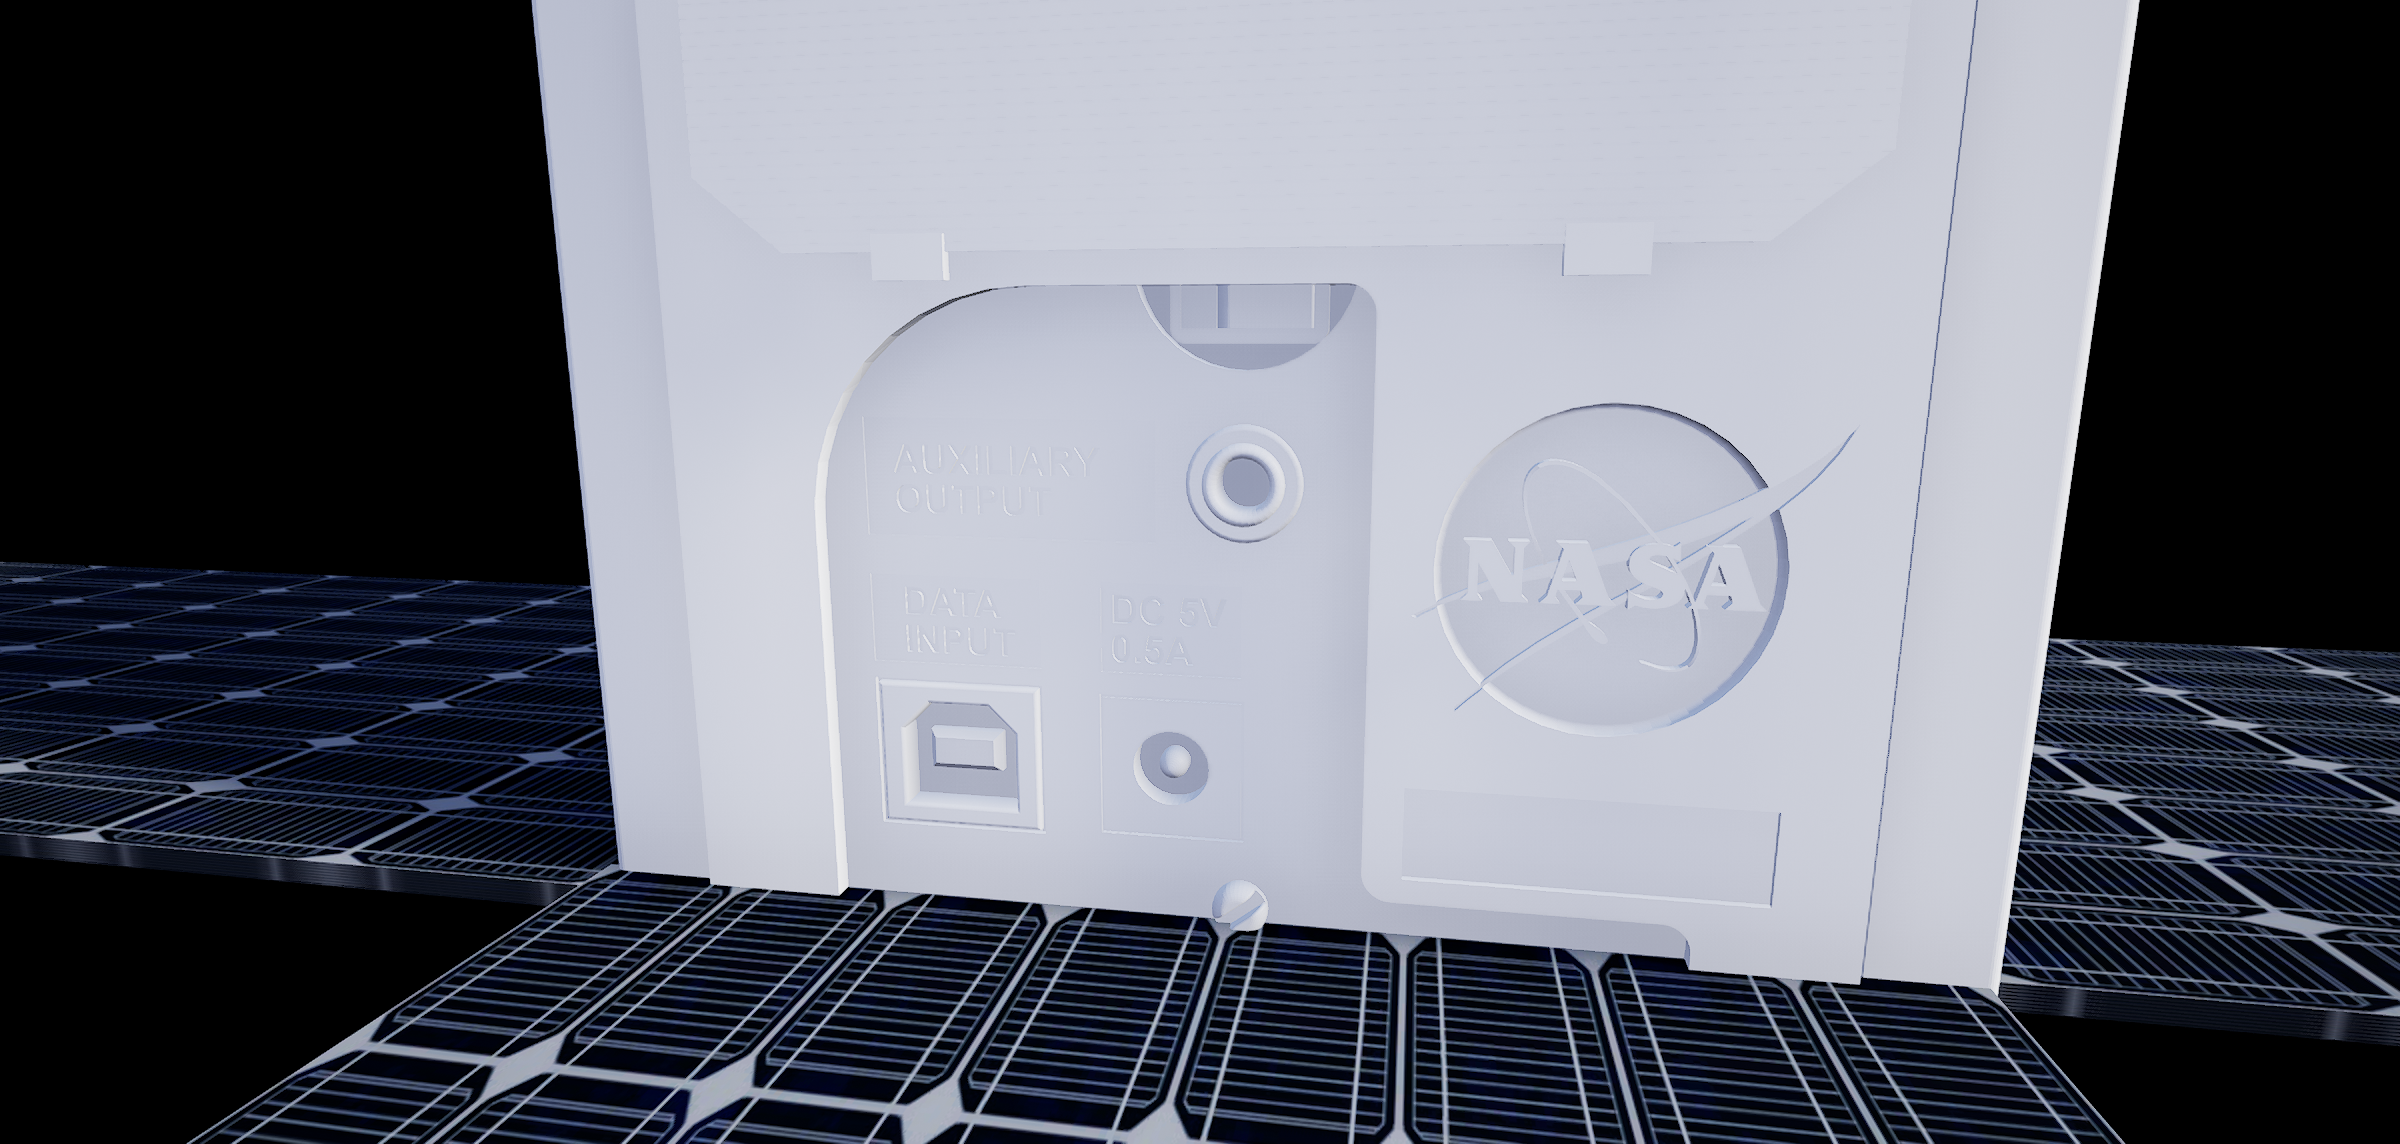aux: (1182, 409, 1313, 548)
dc: (1120, 724, 1218, 812)
usb: (905, 688, 1026, 824)
